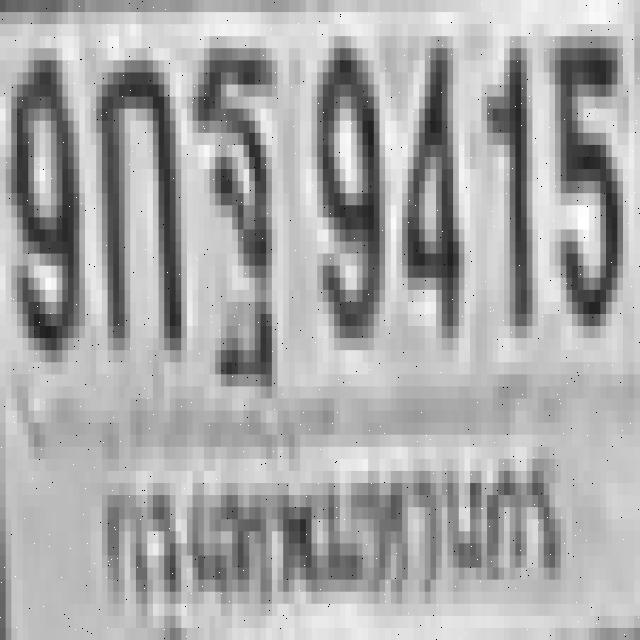1: (481, 36, 527, 326)
10GorGai: (90, 48, 176, 338)
25ThorThan: (187, 36, 272, 350)
4: (396, 24, 458, 326)
5: (550, 24, 618, 314)
9: (6, 42, 74, 344), (312, 36, 379, 326)
Bangkok: (86, 428, 572, 620)
